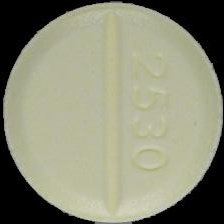50436-2948: (0, 0, 224, 224)
